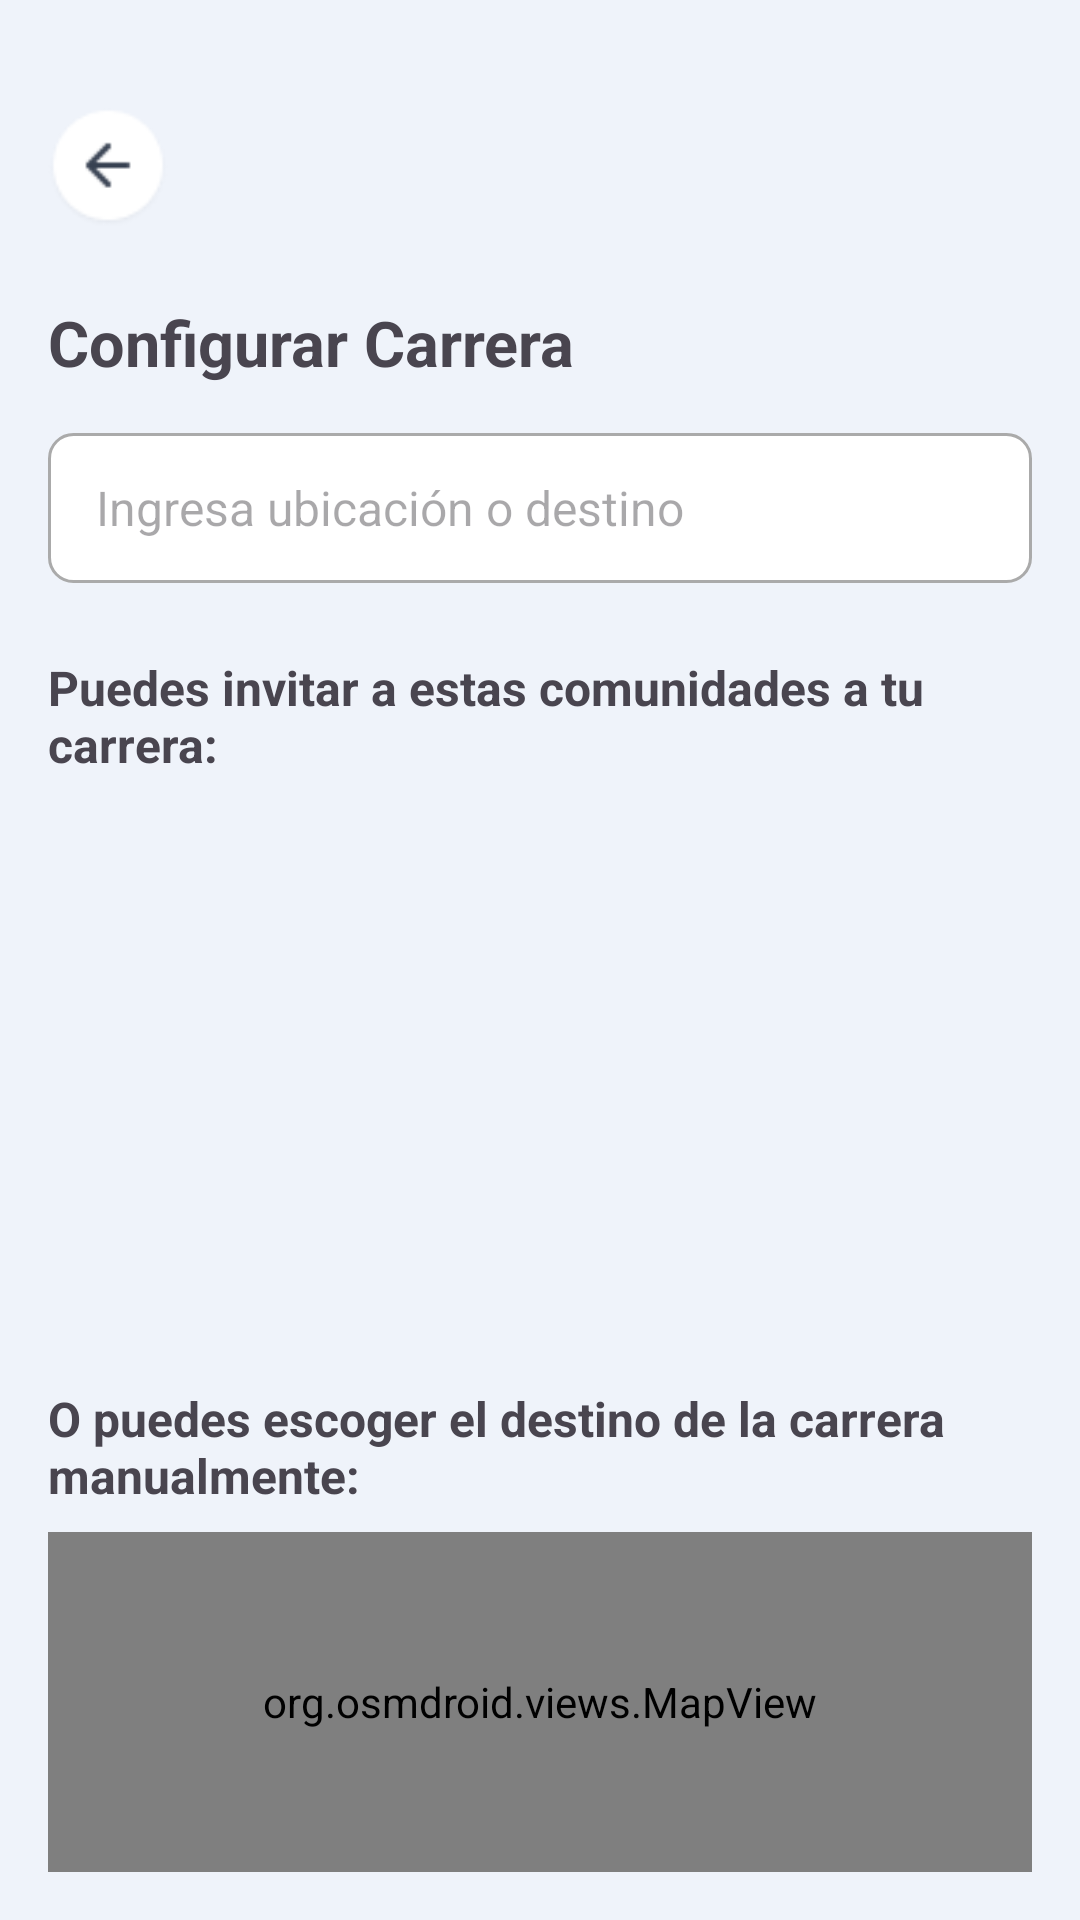

Icon click points for this 1080×1920 phone screenshot, format (x,y):
Botón de regreso: (107,165)
